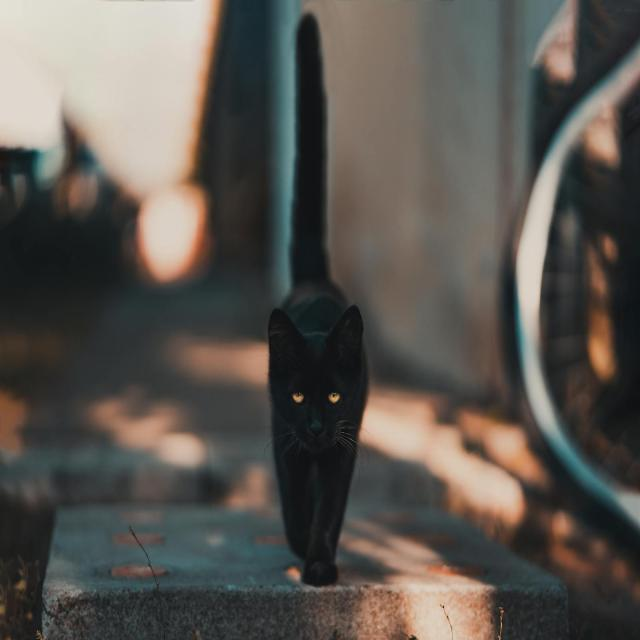Cat: (266, 301, 370, 586)
